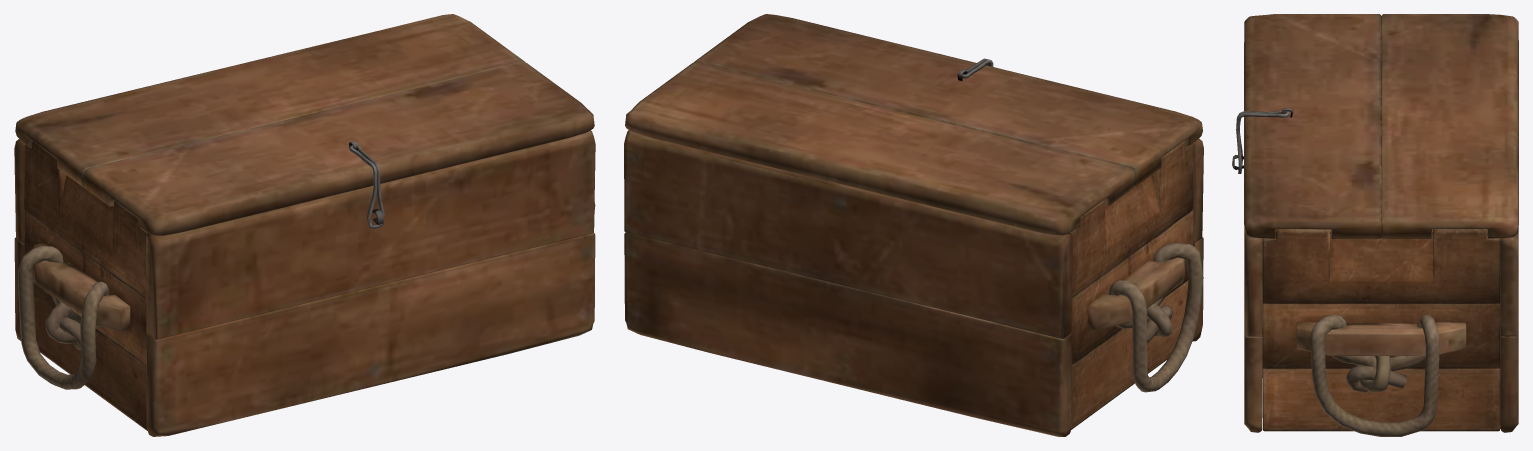
File: crate.glb
3 renders of one model, left to right at view 1: azimuth 30°, elevation 25°; view 2: azimuth 150°, elevation 25°; view 3: azimuth 270°, elevation 25°, orthographic. The views are drawn at different scales.
Visible parts, largest first — view 1: wooden_crate_01_lid; view 2: wooden_crate_01_lid; view 3: wooden_crate_01_lid.
Boxes of the visible parts, bbox=[...] form: wooden_crate_01_lid: bbox=[14, 14, 595, 436]; wooden_crate_01_lid: bbox=[624, 14, 1203, 436]; wooden_crate_01_lid: bbox=[1232, 14, 1518, 436].
Size of the model in its own units: 0.8253 by 0.3495 by 0.4084.
Materials: 1 (1 with a texture image).
